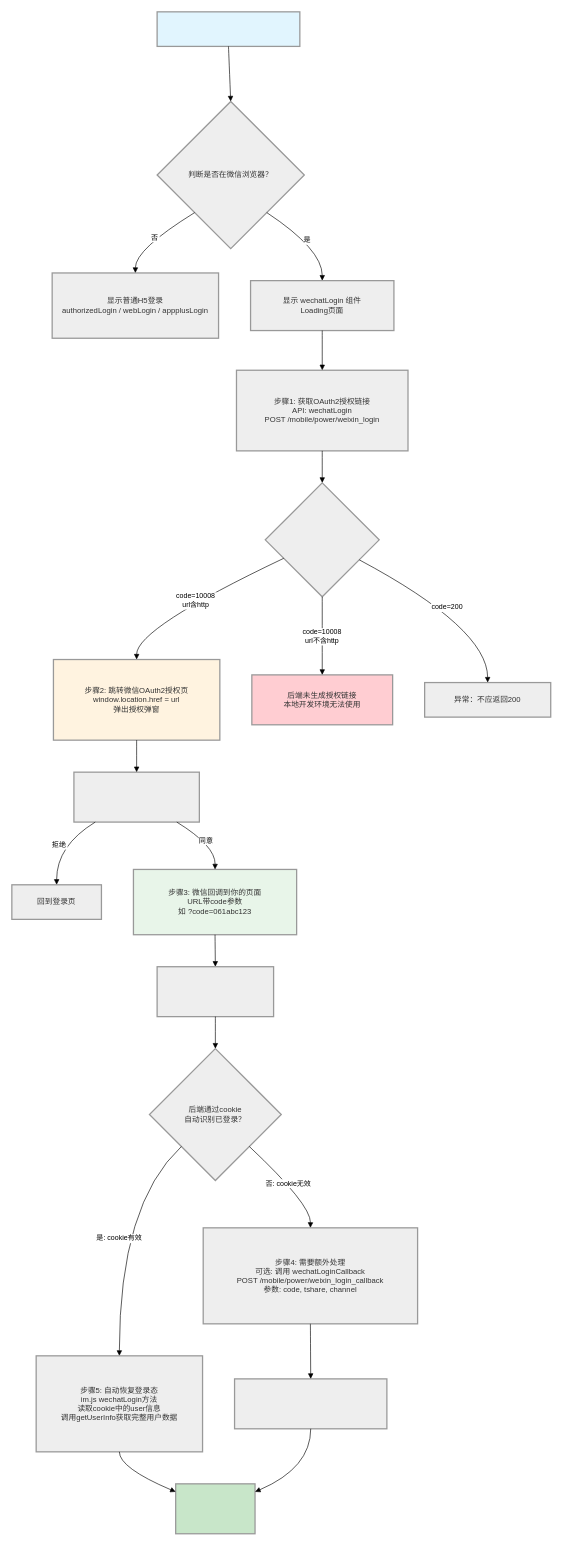
Some shapes in this 562 by 1545 pixel diagram are drawn without their labels. Here are the shapes that lost their labels. From the top down, the centre of each, then its label:
At point 228,29: "用户访问公众号H5页面".
At point 322,539: "后端返回 code ？".
At point 136,796: "用户在微信页面 点击同意/拒绝授权".
At point 215,991: "页面重新加载 login.vue onLoad".
At point 310,1403: "后端用code换取用户信息 返回登录数据result".
At point 215,1508: "登录完成 进入首页".
